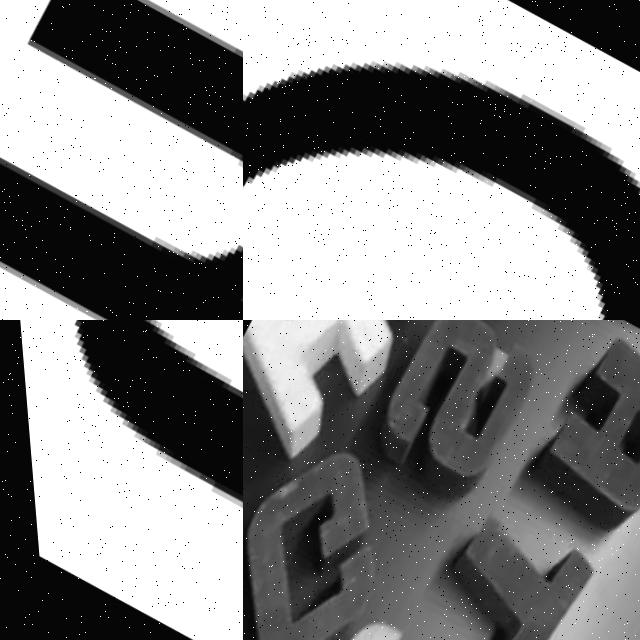0: (0, 320, 243, 640)
A: (507, 324, 640, 553)
G: (243, 415, 432, 640)
H: (243, 320, 442, 455)
M: (0, 0, 243, 320)
O: (243, 61, 640, 320)
S: (343, 320, 557, 506)
T: (381, 481, 607, 640)
